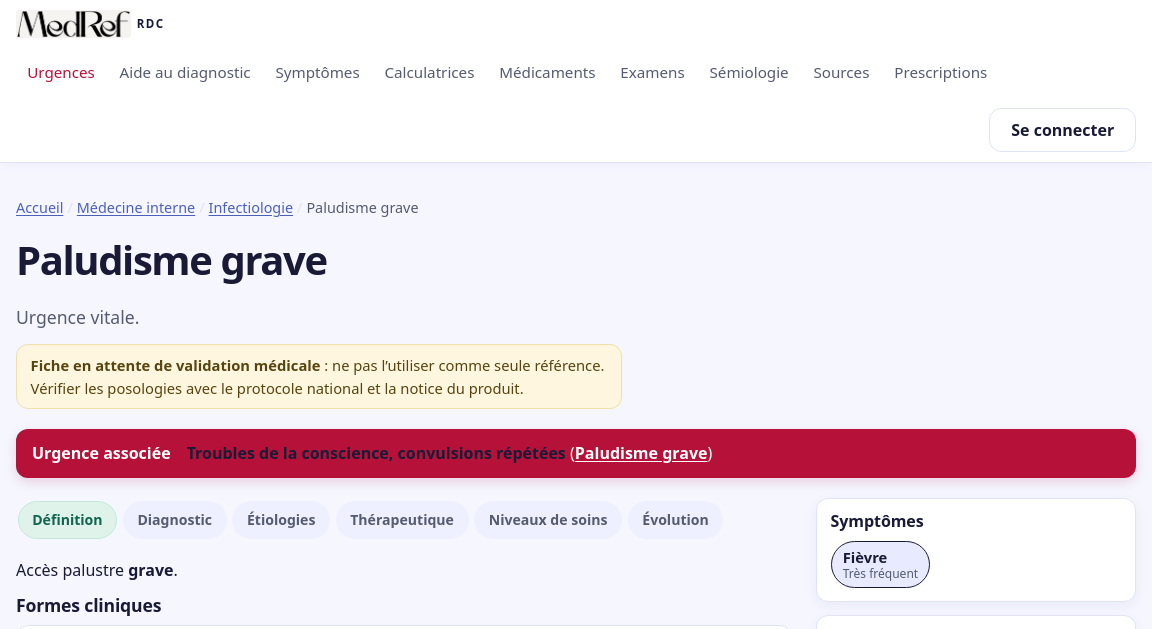
Test case: Fiche pathologie › liste les formes cliniques et affiche la sémiologie systématisée de chaque forme
Click the tab "Diagnostic": click(175, 520) [123,501,227,539]
(page scrolled)
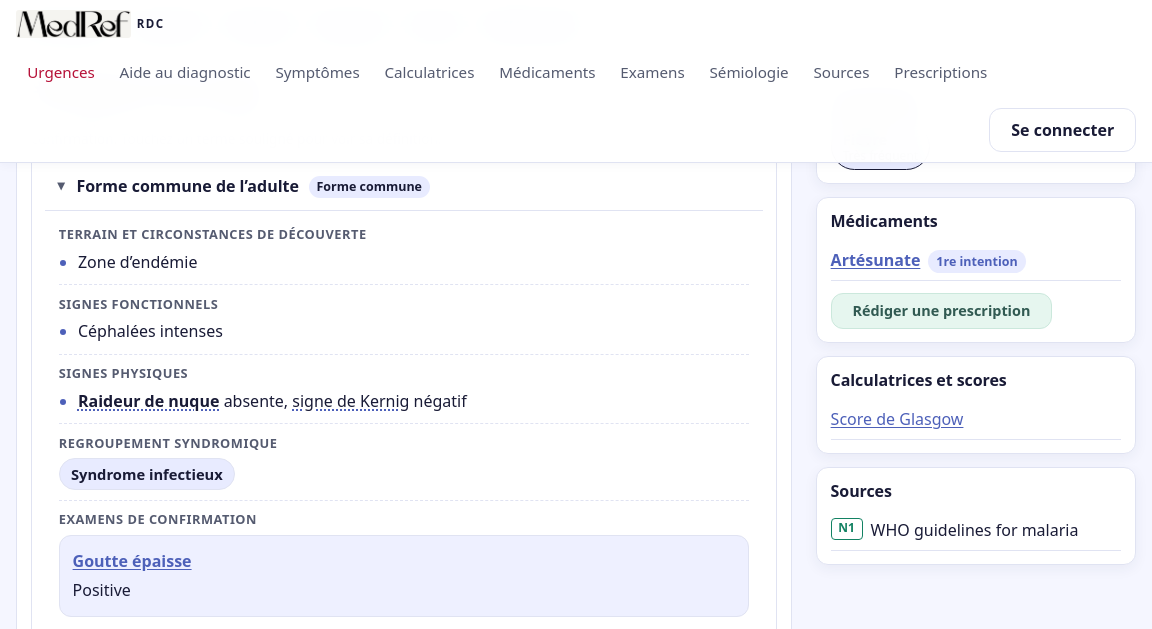
Expected: the heading "Sémiologie par forme clinique" is shown, [31,76,266,98]
Expected: the headings read "Terrain et circonstances de découverte", "Signes fonctionnels", "Signes physiques", "Regroupement syndromique", "Examens de confirmation", in this order, [59,225,367,243]; [59,295,218,313]; [59,364,188,382]; [59,434,278,452]; [59,510,257,528]
# Termes du glossaire : définition au toucher, avec lien vers le syndrome
Click the button "signe de Kernig": click(351, 401) [292,390,409,412]
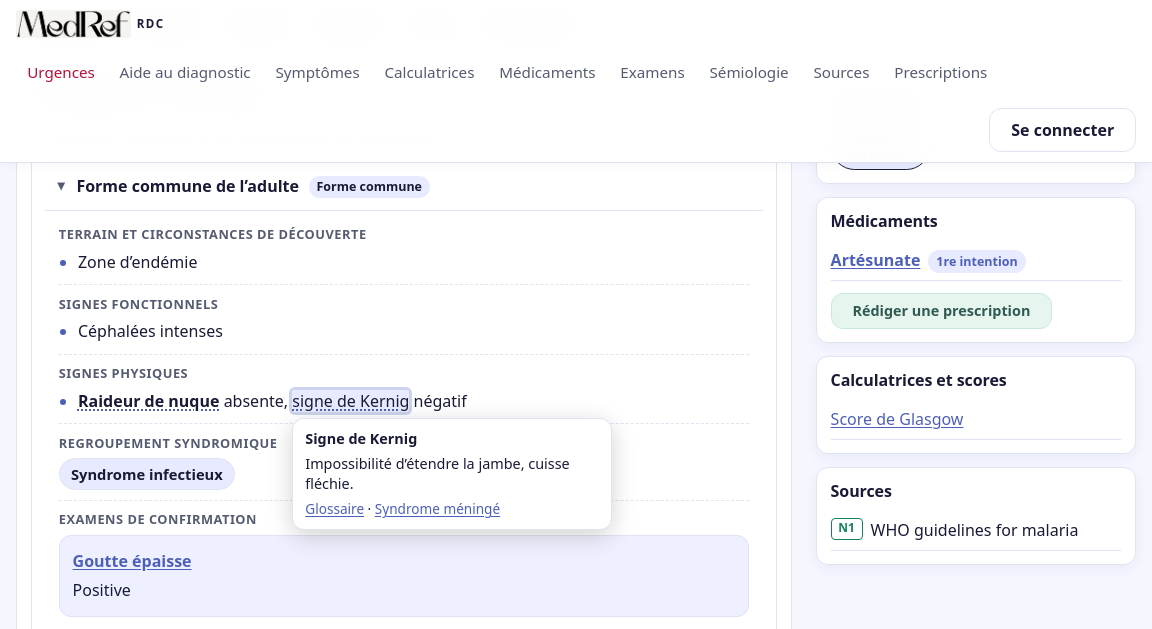
Expected: the tooltip shows "Impossibilité d’étendre la jambe", [305,454,570,493]
Press Escape
(page scrolled)
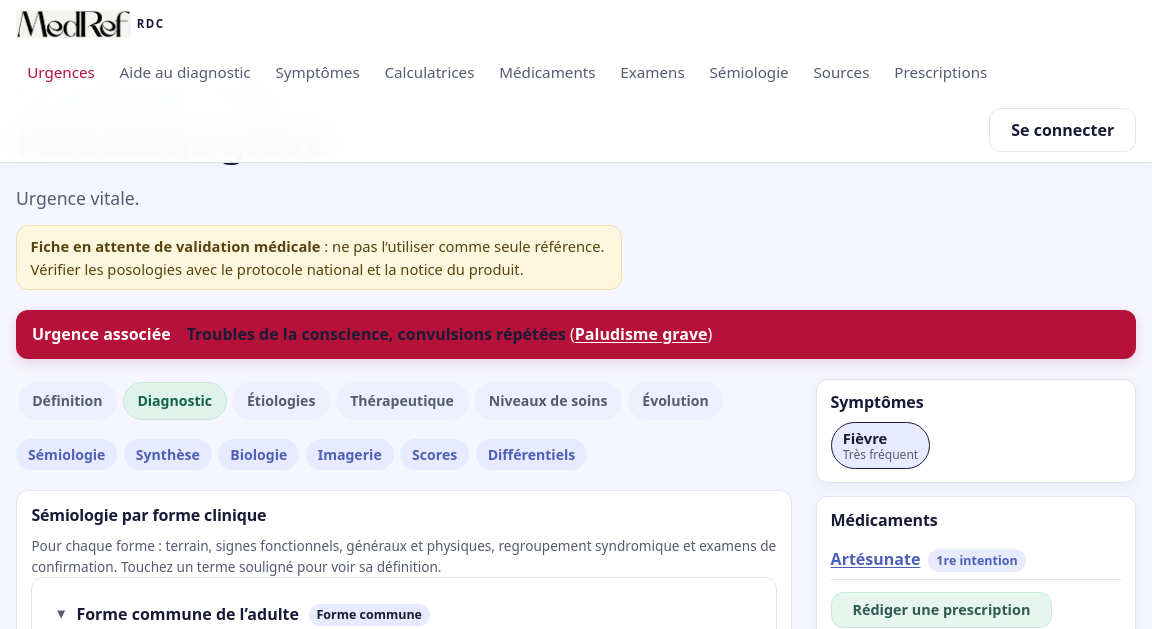
Expected: the tooltip is gone
Click the tab "Étiologies": click(281, 401) [232,382,330,420]
(page scrolled)
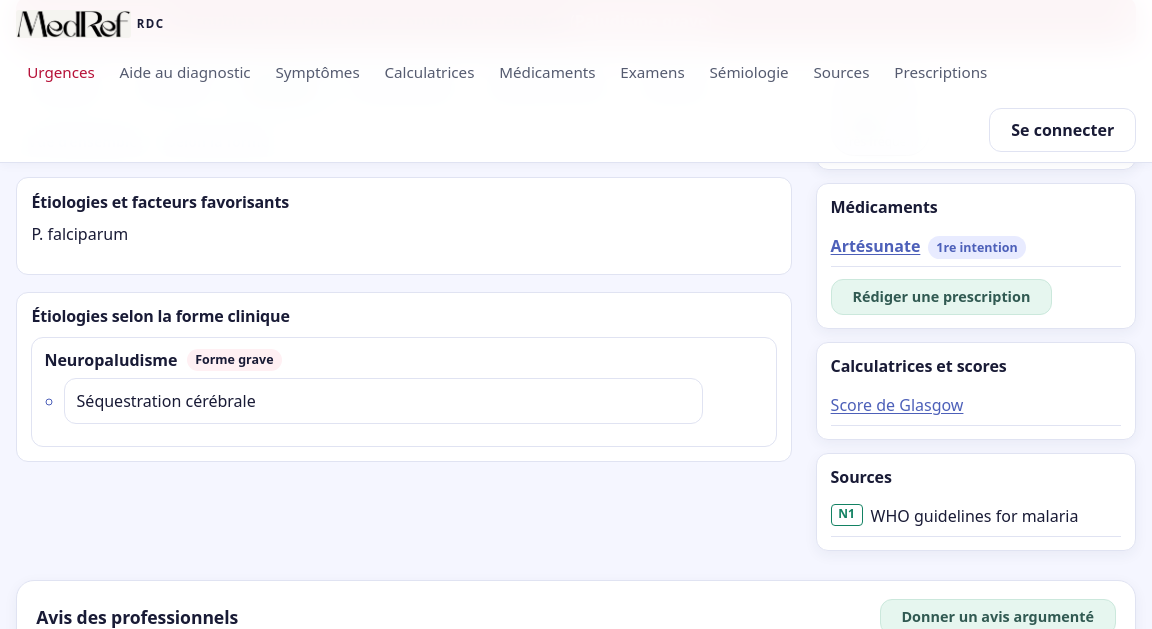
Expected: the heading "Étiologies selon la forme clinique" is shown, [31,306,290,328]
Expected: the text "Séquestration cérébrale" is shown, [77,390,256,412]
